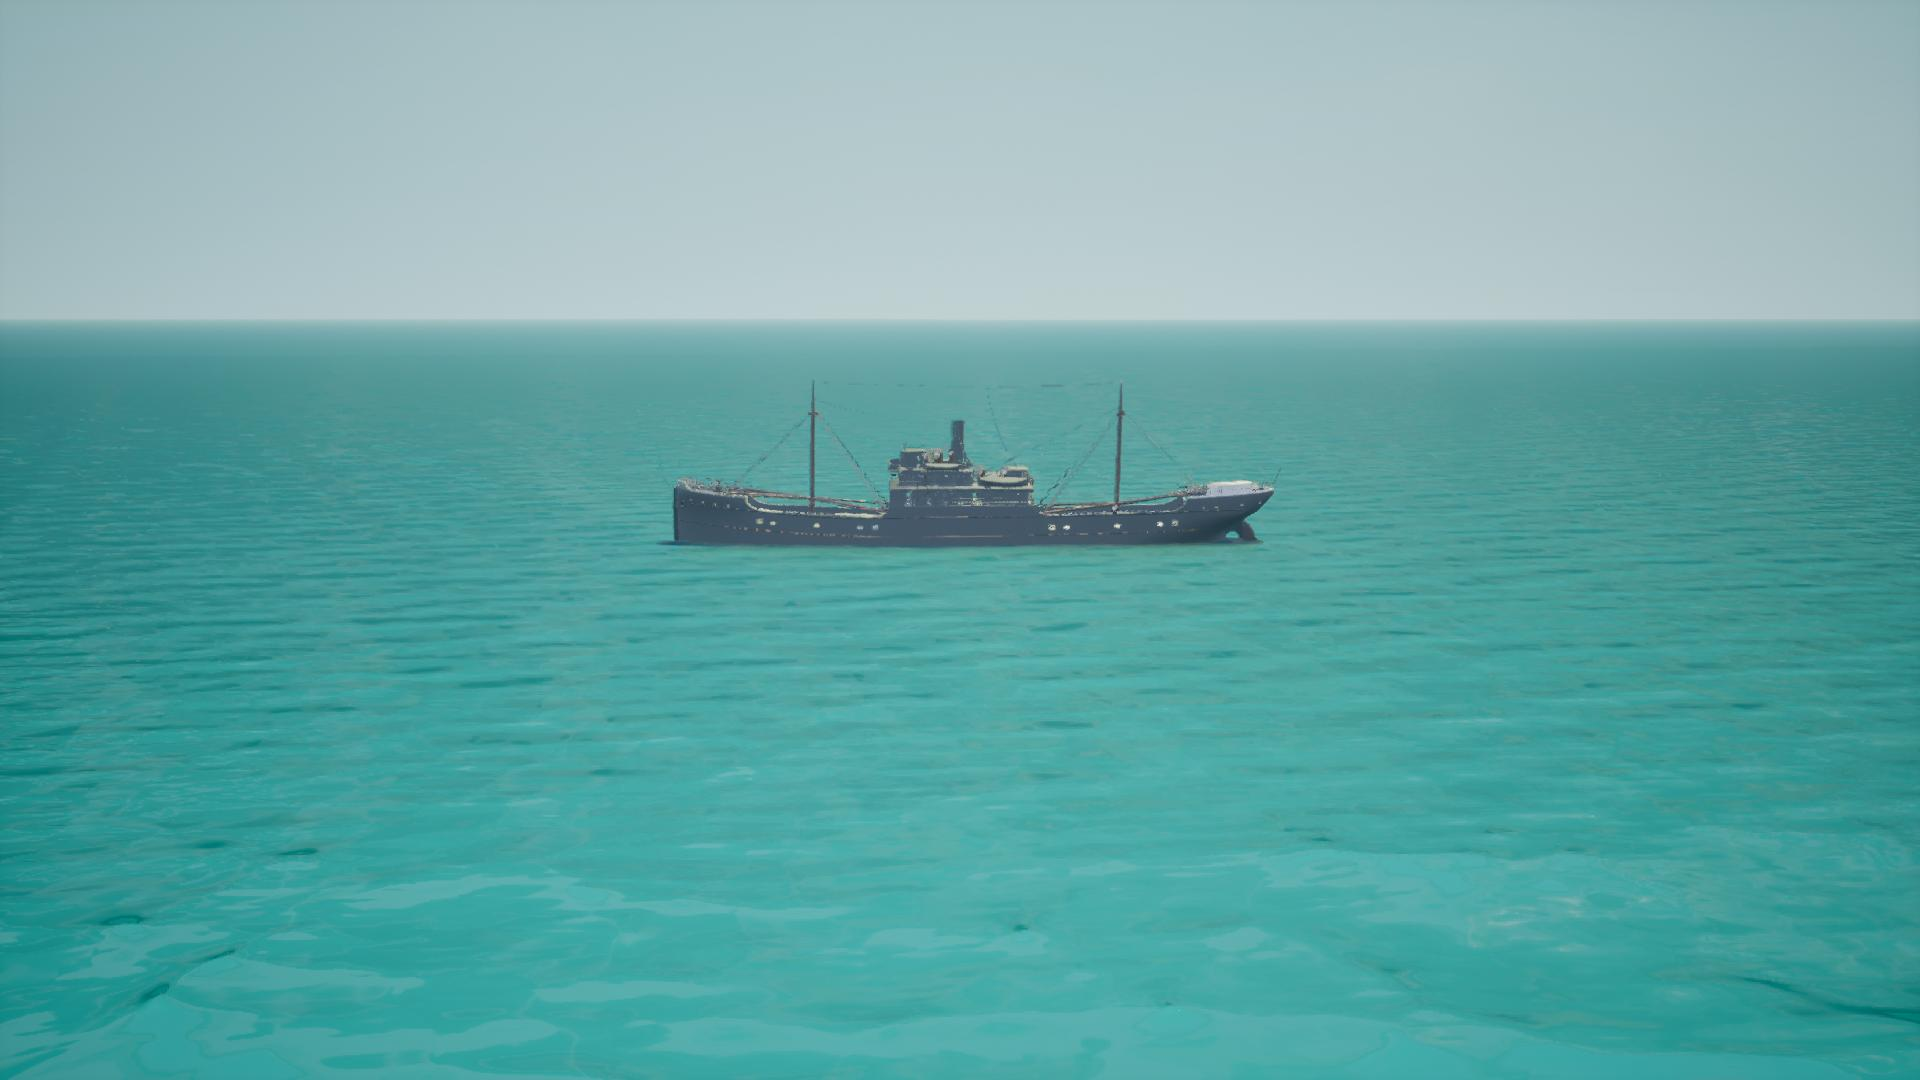Fishing Boat: (675, 381, 1273, 546)
